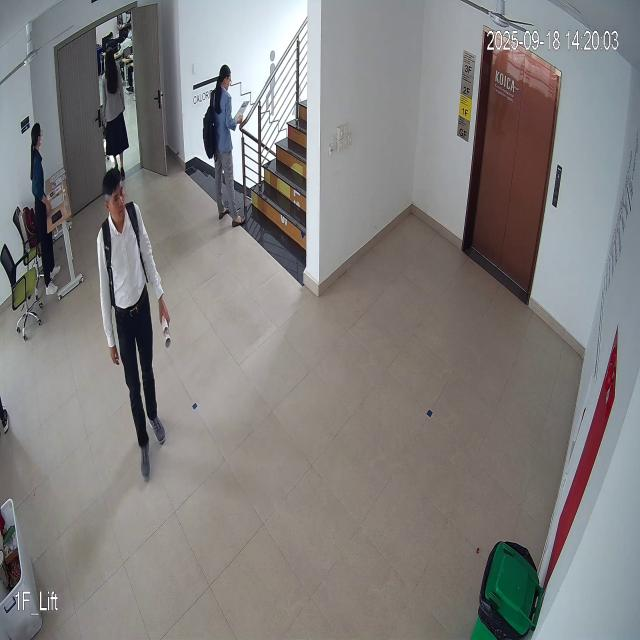face: (102, 170, 130, 228)
